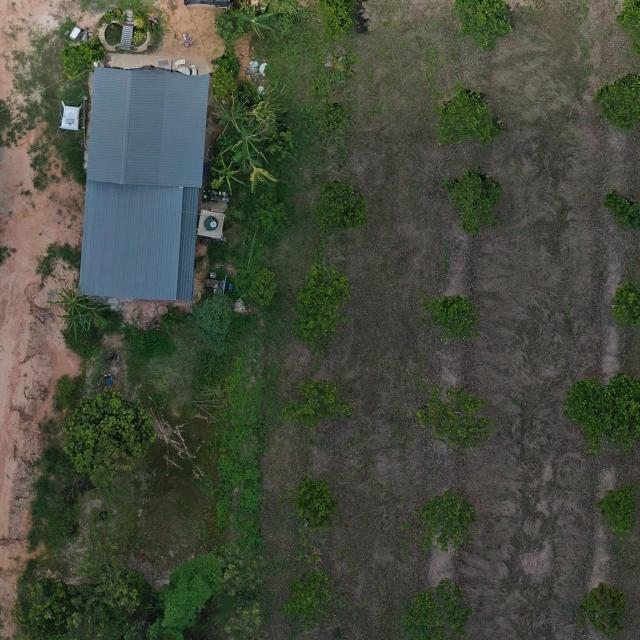Tree: (62, 385, 157, 475), (564, 372, 640, 456), (416, 383, 492, 447), (160, 553, 222, 631), (401, 577, 475, 640), (294, 262, 346, 349), (434, 87, 505, 150), (416, 487, 481, 554), (441, 168, 502, 236), (279, 568, 336, 632), (281, 378, 350, 430), (47, 284, 111, 339), (308, 180, 368, 236), (454, 0, 513, 53), (423, 294, 483, 346), (577, 580, 626, 638), (592, 72, 640, 130), (188, 290, 235, 348), (218, 122, 273, 165), (594, 481, 637, 536), (295, 474, 335, 532), (61, 36, 106, 81), (609, 280, 640, 332), (603, 191, 640, 232), (212, 94, 251, 132), (209, 154, 244, 196), (233, 4, 274, 39), (317, 0, 355, 36), (211, 67, 237, 98)
